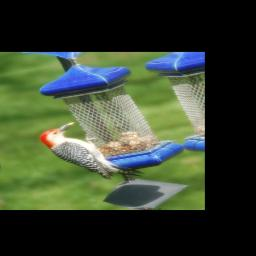Woodpecker: (33, 112, 152, 193)
